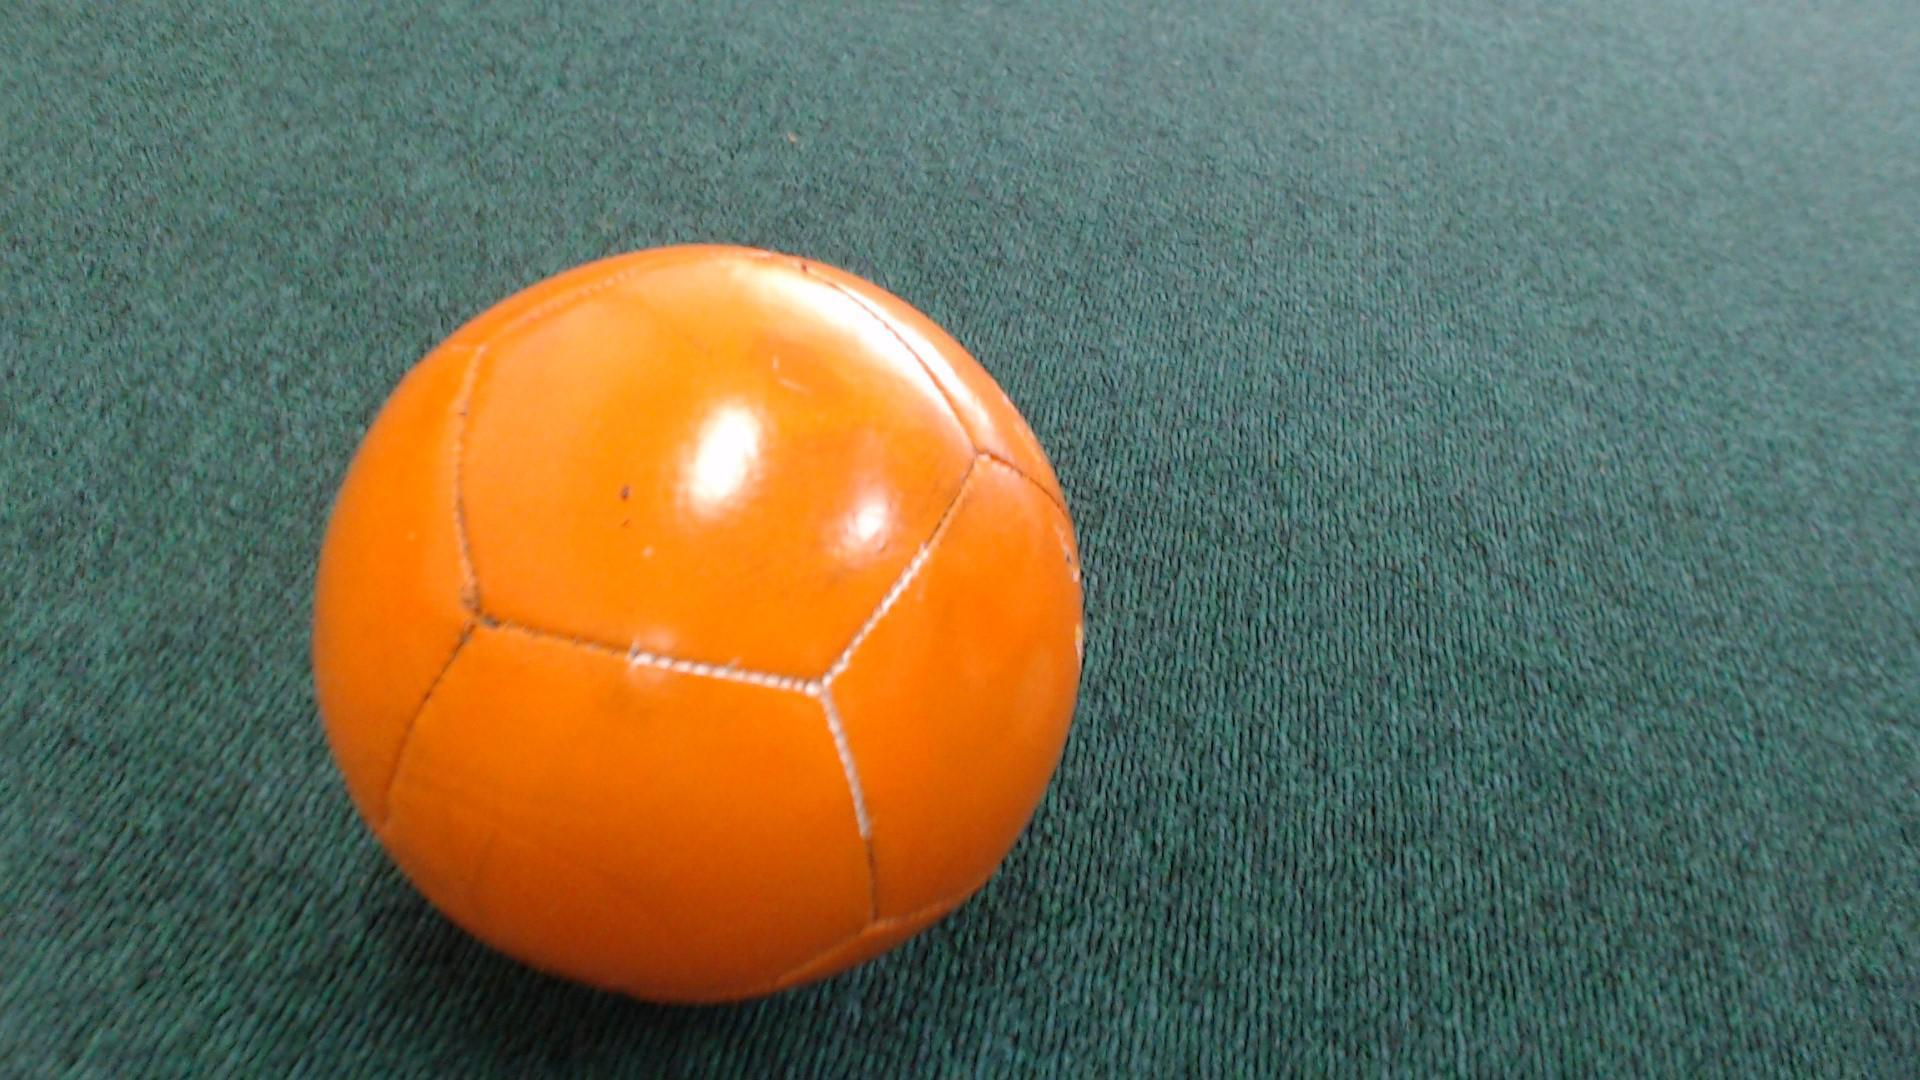bola: (281, 202, 1141, 1079)
